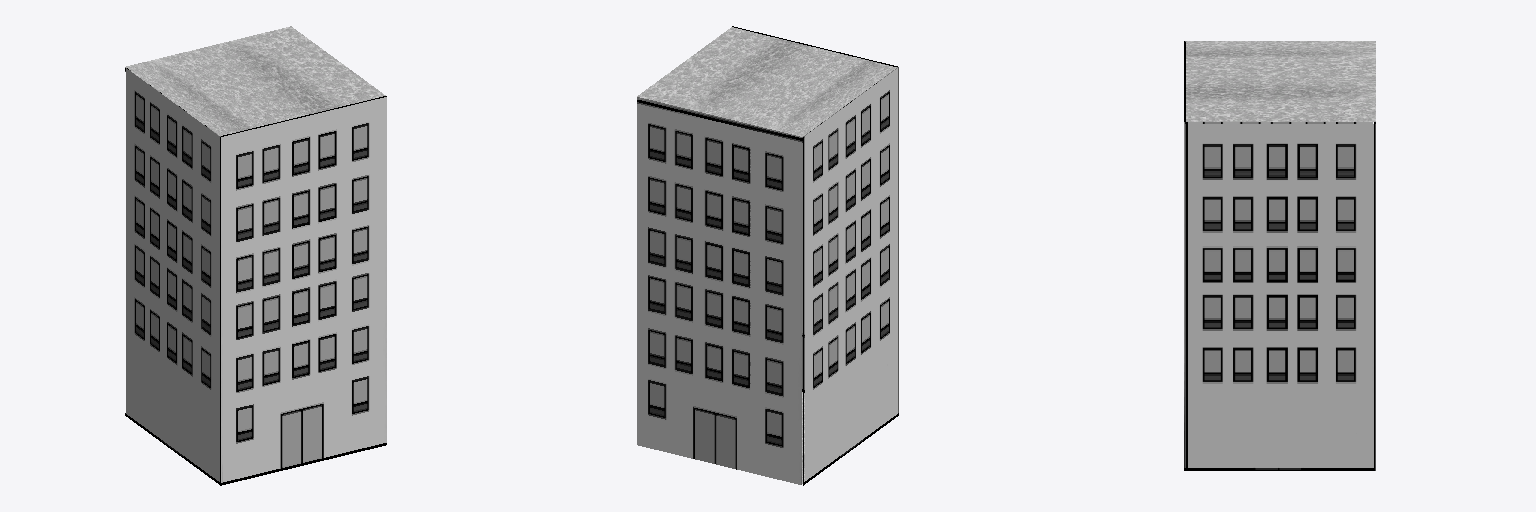
3 views of the same model, side by side, from view 1: azimuth 30°, elevation 25°; view 2: azimuth 150°, elevation 25°; view 3: azimuth 270°, elevation 25° (orthographic).
Parts seen in each view (by area): view 1: pCube1; view 2: pCube1; view 3: pCube1.
Part boxes in pixels (x1,y1,x2,y2): pCube1: (125, 26, 386, 485); pCube1: (637, 26, 898, 485); pCube1: (1184, 41, 1375, 470).
Bounding box in the file's own units: 1 × 2 × 1.
1 materials, 1 textured.